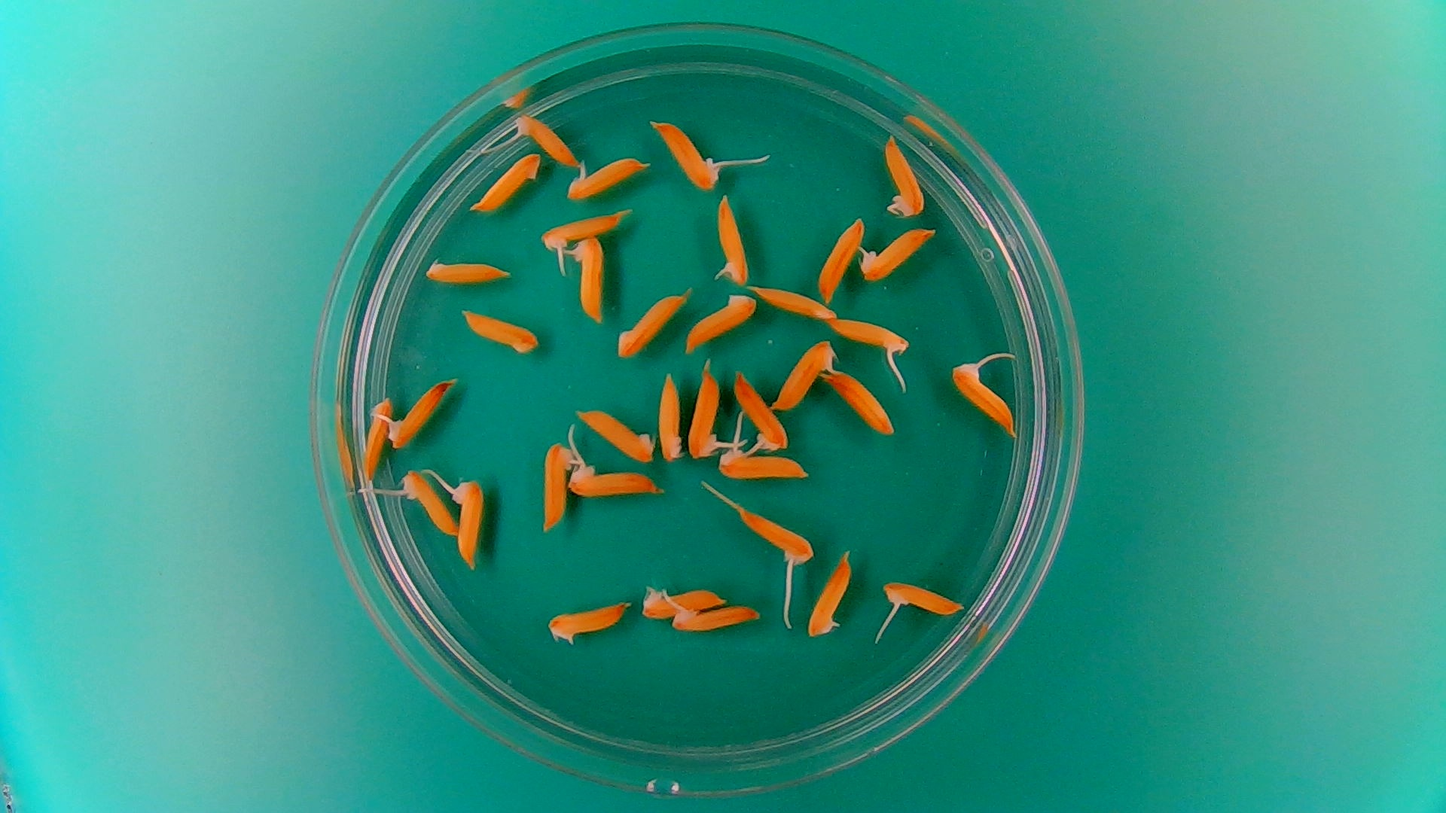no: (614, 283, 693, 359), (772, 335, 838, 412), (467, 148, 542, 215), (681, 288, 758, 353), (574, 404, 657, 464), (823, 371, 897, 437), (814, 212, 866, 299), (543, 597, 631, 647), (458, 306, 541, 355), (749, 279, 839, 322), (420, 252, 513, 288), (358, 397, 394, 486), (654, 371, 688, 465)
yes: (947, 360, 1020, 435), (386, 373, 456, 451), (735, 507, 816, 574), (650, 120, 721, 193), (857, 222, 939, 284), (732, 367, 789, 452), (804, 547, 856, 640), (827, 314, 914, 365), (564, 459, 668, 500), (710, 191, 753, 288), (714, 441, 811, 483), (404, 465, 458, 539), (639, 580, 738, 620), (538, 435, 578, 534), (565, 233, 607, 325), (880, 137, 926, 220), (515, 112, 581, 167), (563, 160, 649, 202), (449, 473, 485, 571), (878, 580, 961, 622), (670, 600, 763, 635), (538, 213, 625, 250), (688, 363, 721, 459)
